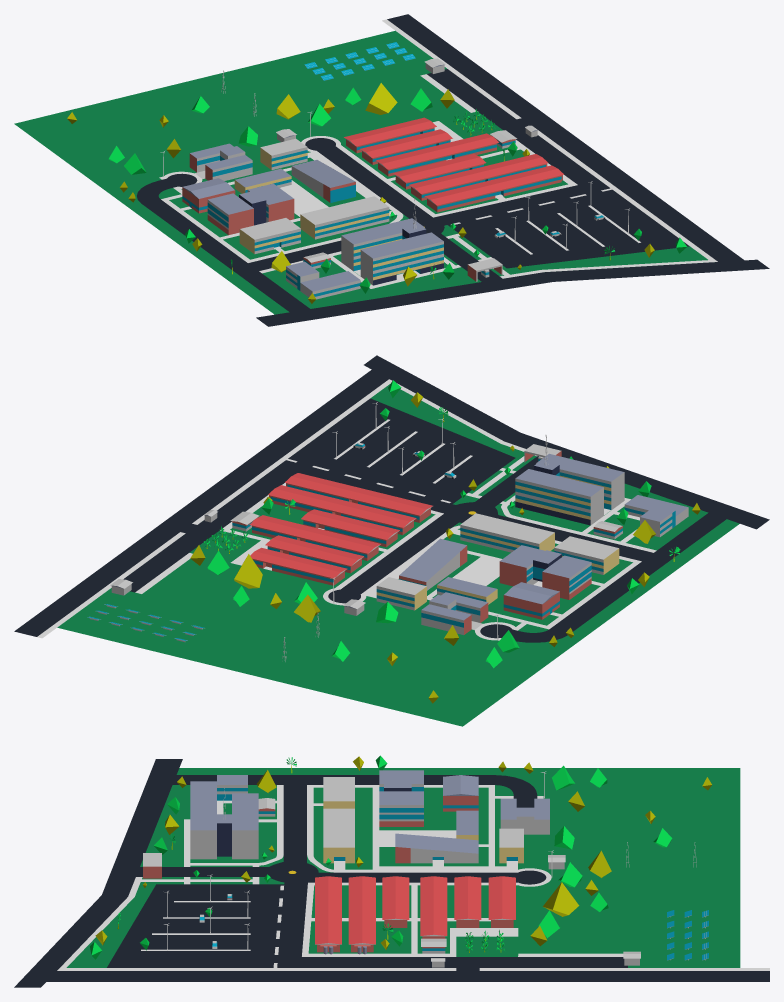
Rendered from cmmg.glb.
3 views of the same model, one above another, from view 1: azimuth 30°, elevation 25°; view 2: azimuth 150°, elevation 25°; view 3: azimuth 270°, elevation 25° (orthographic). The views are drawn at different scales.
Parts seen in each view (by area): view 1: cmmgmetre.000_greenbase, cmmg_park1, cmmgmeroa.001, cmmgmeroa, cmmgci_Centro de Informática, cmmgmeroa.006, cmmgmebui.010, cmmgmeroa.002, cmmgmebui.004, cmmgmebui.002, cmmgmebui.005, cmmgmebui.007 (+22 smaller); view 2: cmmgmetre.000_greenbase, cmmg_park1, cmmgmeroa.001, cmmgci_Centro de Informática, cmmgmeroa, cmmgmeroa.006, cmmgmebui.010, cmmgmeroa.002, cmmgmebui.005, cmmgmebui.002, cmmgmebui.004, cmmgmebui.007 (+20 smaller); view 3: cmmgmetre.000_greenbase, cmmg_park1, cmmgmeroa.001, cmmgmeroa, cmmgci_Centro de Informática, cmmgmeroa.006, cmmgmebui.010, cmmgmebui.011, cmmgmebui.005, cmmgmeroa.005, cmmgmebui.004, cmmgmeroa.007 (+33 smaller).
Boxes of the visible parts, x1,y1,x2,y2 form: cmmgmetre.000_greenbase: (14,30,707,314); cmmg_park1: (448,188,689,268); cmmgmeroa.001: (387,14,743,261); cmmgmeroa: (256,259,769,326); cmmgci_Centro de Informática: (341,218,443,285); cmmgmeroa.006: (427,69,599,184); cmmgmebui.010: (207,183,294,235); cmmgmeroa.002: (145,201,309,312); cmmgmebui.004: (424,165,563,212); cmmgmebui.002: (300,196,396,239); cmmgmebui.005: (409,154,547,200); cmmgmebui.007: (375,133,498,176); cmmgmetre.000_greenbase: (57,384,739,726); cmmg_park1: (287,398,515,503); cmmgmeroa.001: (14,370,388,636); cmmgci_Centro de Informática: (515,453,624,525); cmmgmeroa: (364,355,769,529); cmmgmeroa.006: (123,468,294,592); cmmgmebui.010: (499,545,591,599); cmmgmeroa.002: (553,513,726,631); cmmgmebui.005: (268,485,416,535); cmmgmebui.002: (453,513,554,552); cmmgmebui.004: (285,473,432,522); cmmgmebui.007: (249,515,380,560); cmmgmetre.000_greenbase: (66,768,740,967); cmmg_park1: (107,884,284,967); cmmgmeroa.001: (46,971,769,981); cmmgmeroa: (14,759,182,987); cmmgci_Centro de Informática: (190,793,258,859); cmmgmeroa.006: (301,957,627,967); cmmgmebui.010: (379,770,423,826); cmmgmebui.011: (395,833,478,866); cmmgmebui.005: (348,876,375,954); cmmgmeroa.005: (277,882,307,967); cmmgmebui.004: (315,876,341,954); cmmgmeroa.007: (283,785,306,863).
Size of the model in its own units: 3.34 by 0.4662 by 4.66.
